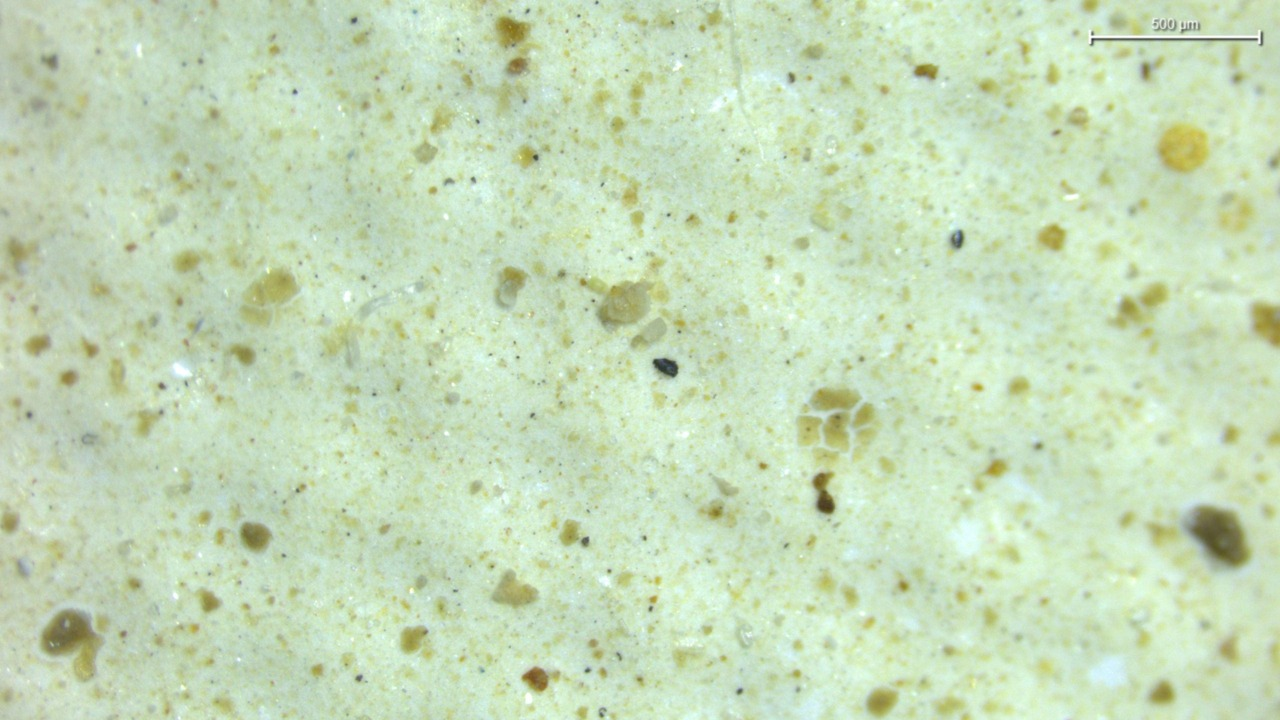microplastic_fragment: (597, 282, 653, 324), (496, 266, 527, 306)
